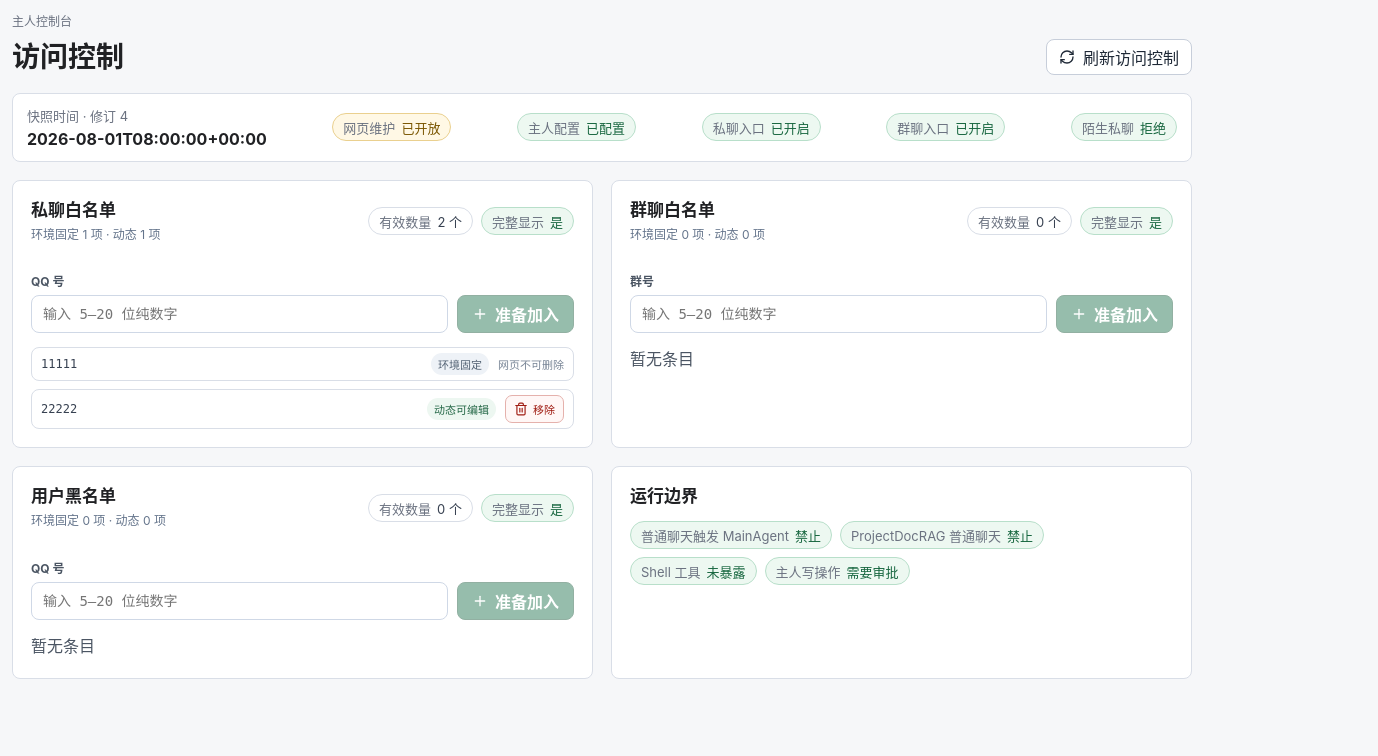
it: AccessControlPage › requires confirmation, sends the snapshot revision and reloads after success
This screenshot has width=1378, height=756.
Type "33333" into the field with placeholder "输入 5–20 位纯数字" below "2 个".
click(240, 314); type("33333")  # box [31,295,448,333]
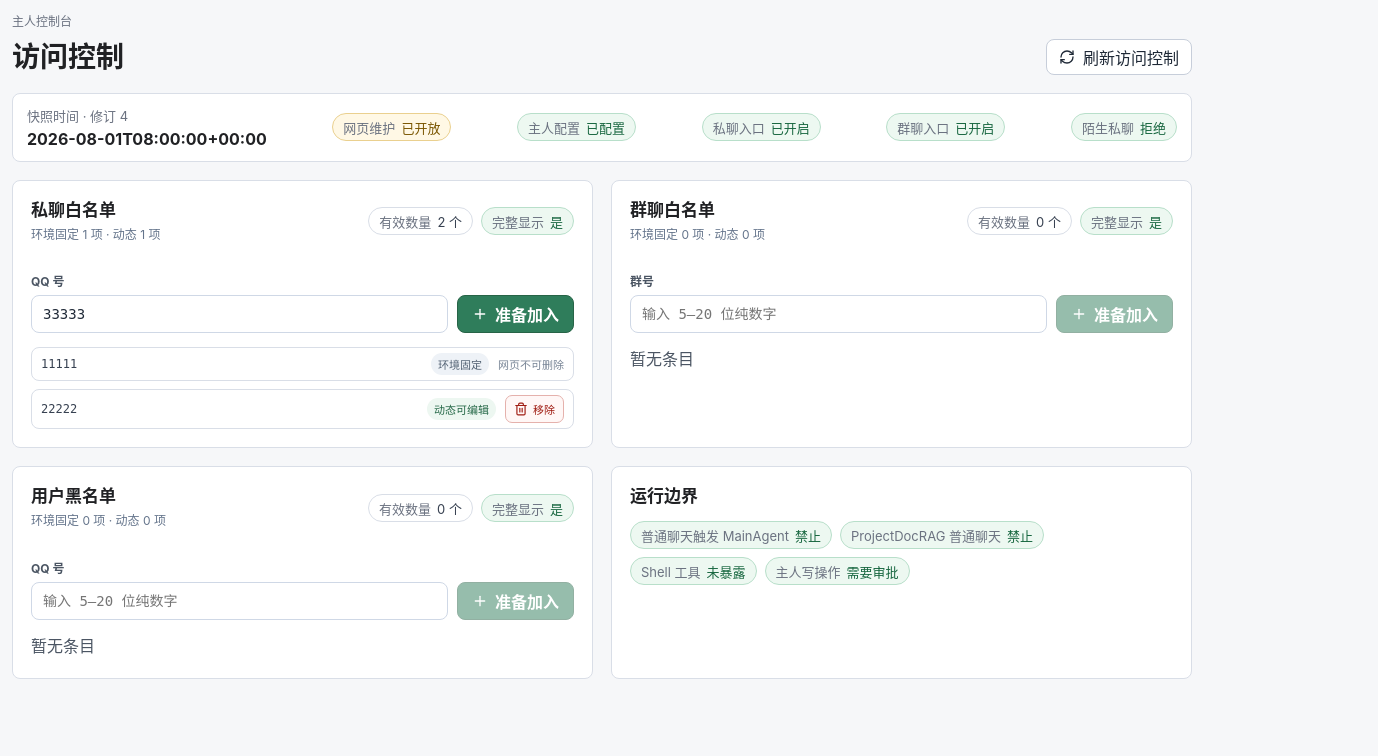
Click the button "准备加入" below "2 个".
click(516, 314)  # box [457,295,574,333]
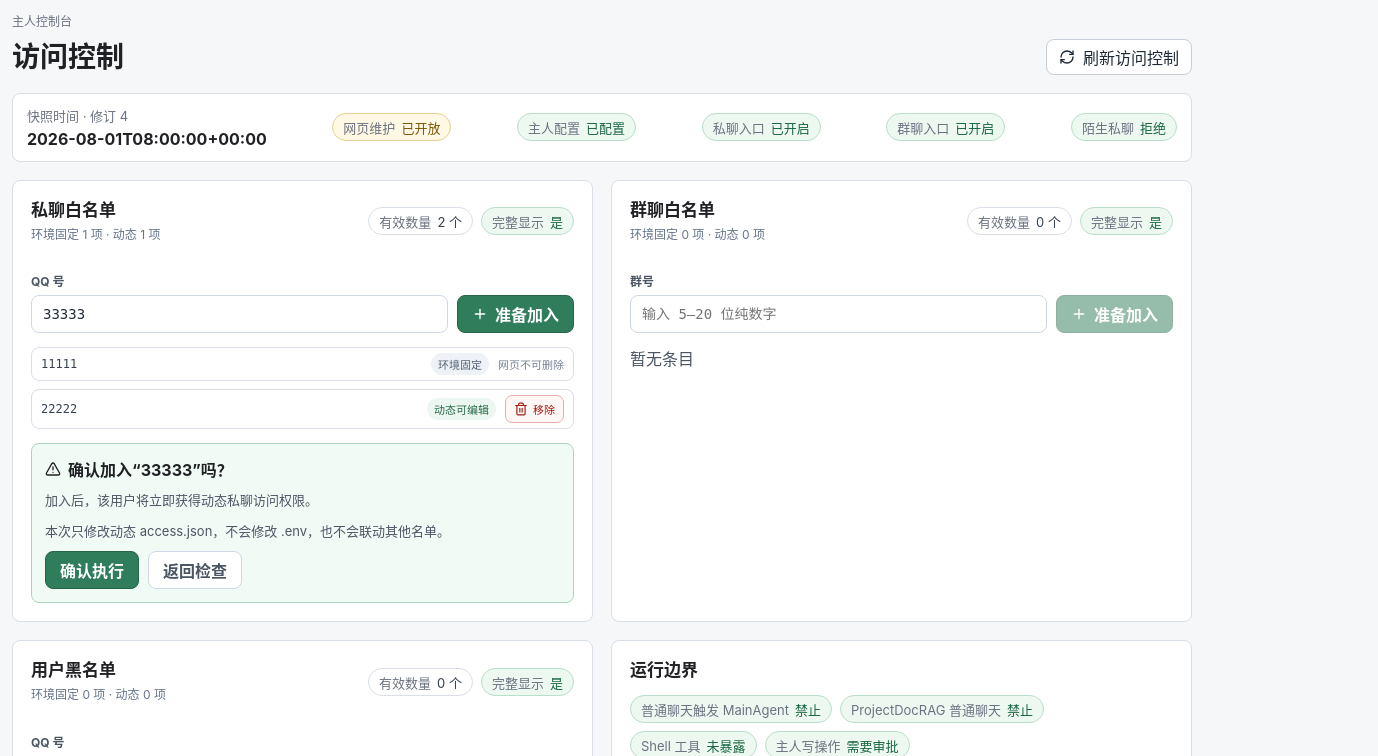
Check: the text "确认加入“33333”吗？" is shown, box [45,460,233,480]
Click the button "确认执行".
click(92, 570)  # box [45,551,139,589]
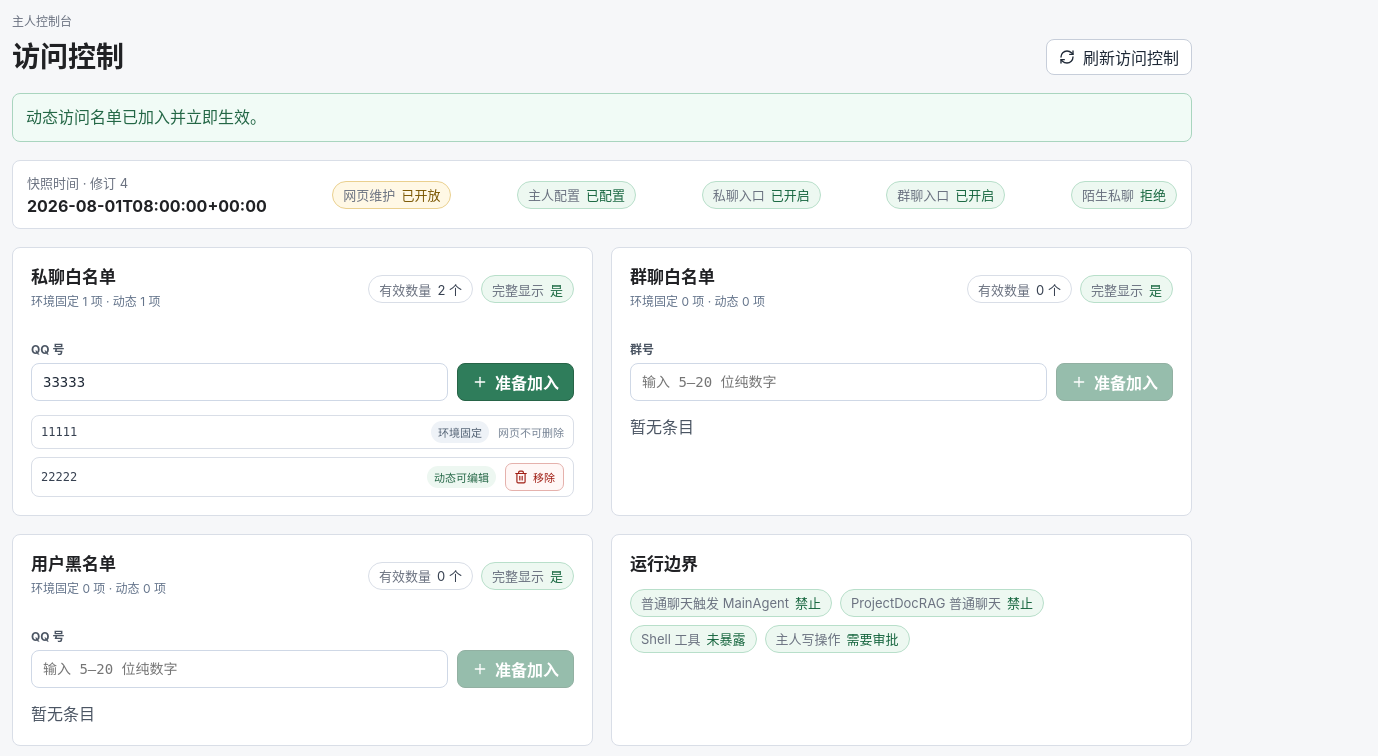
Check: the text "动态访问名单已加入并立即生效。" is shown, box [12,93,1192,142]
